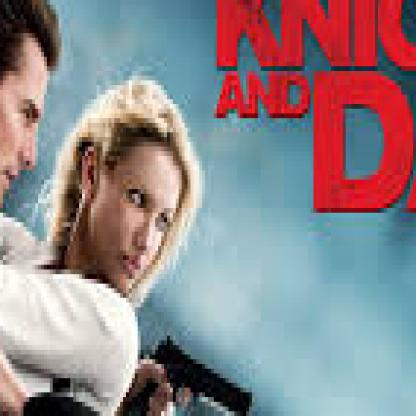gun: (322, 265, 413, 411)
